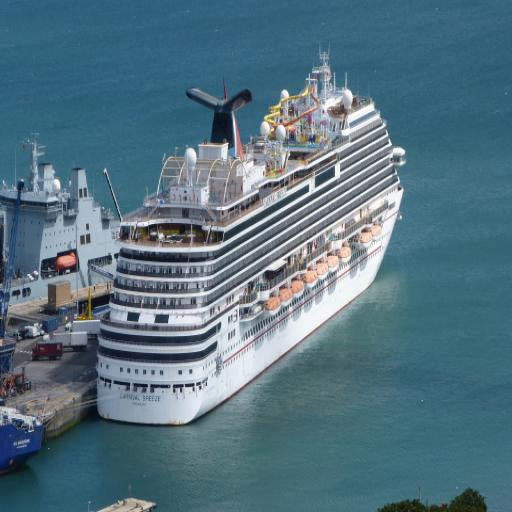cruises: (93, 43, 411, 426)
